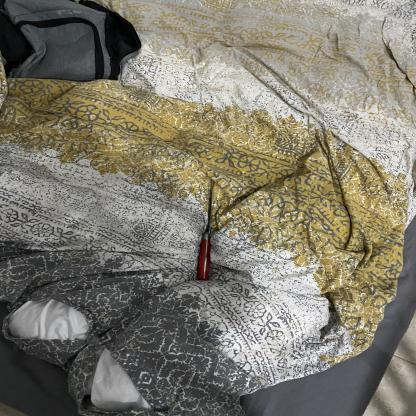Knife: (188, 179, 216, 285)
